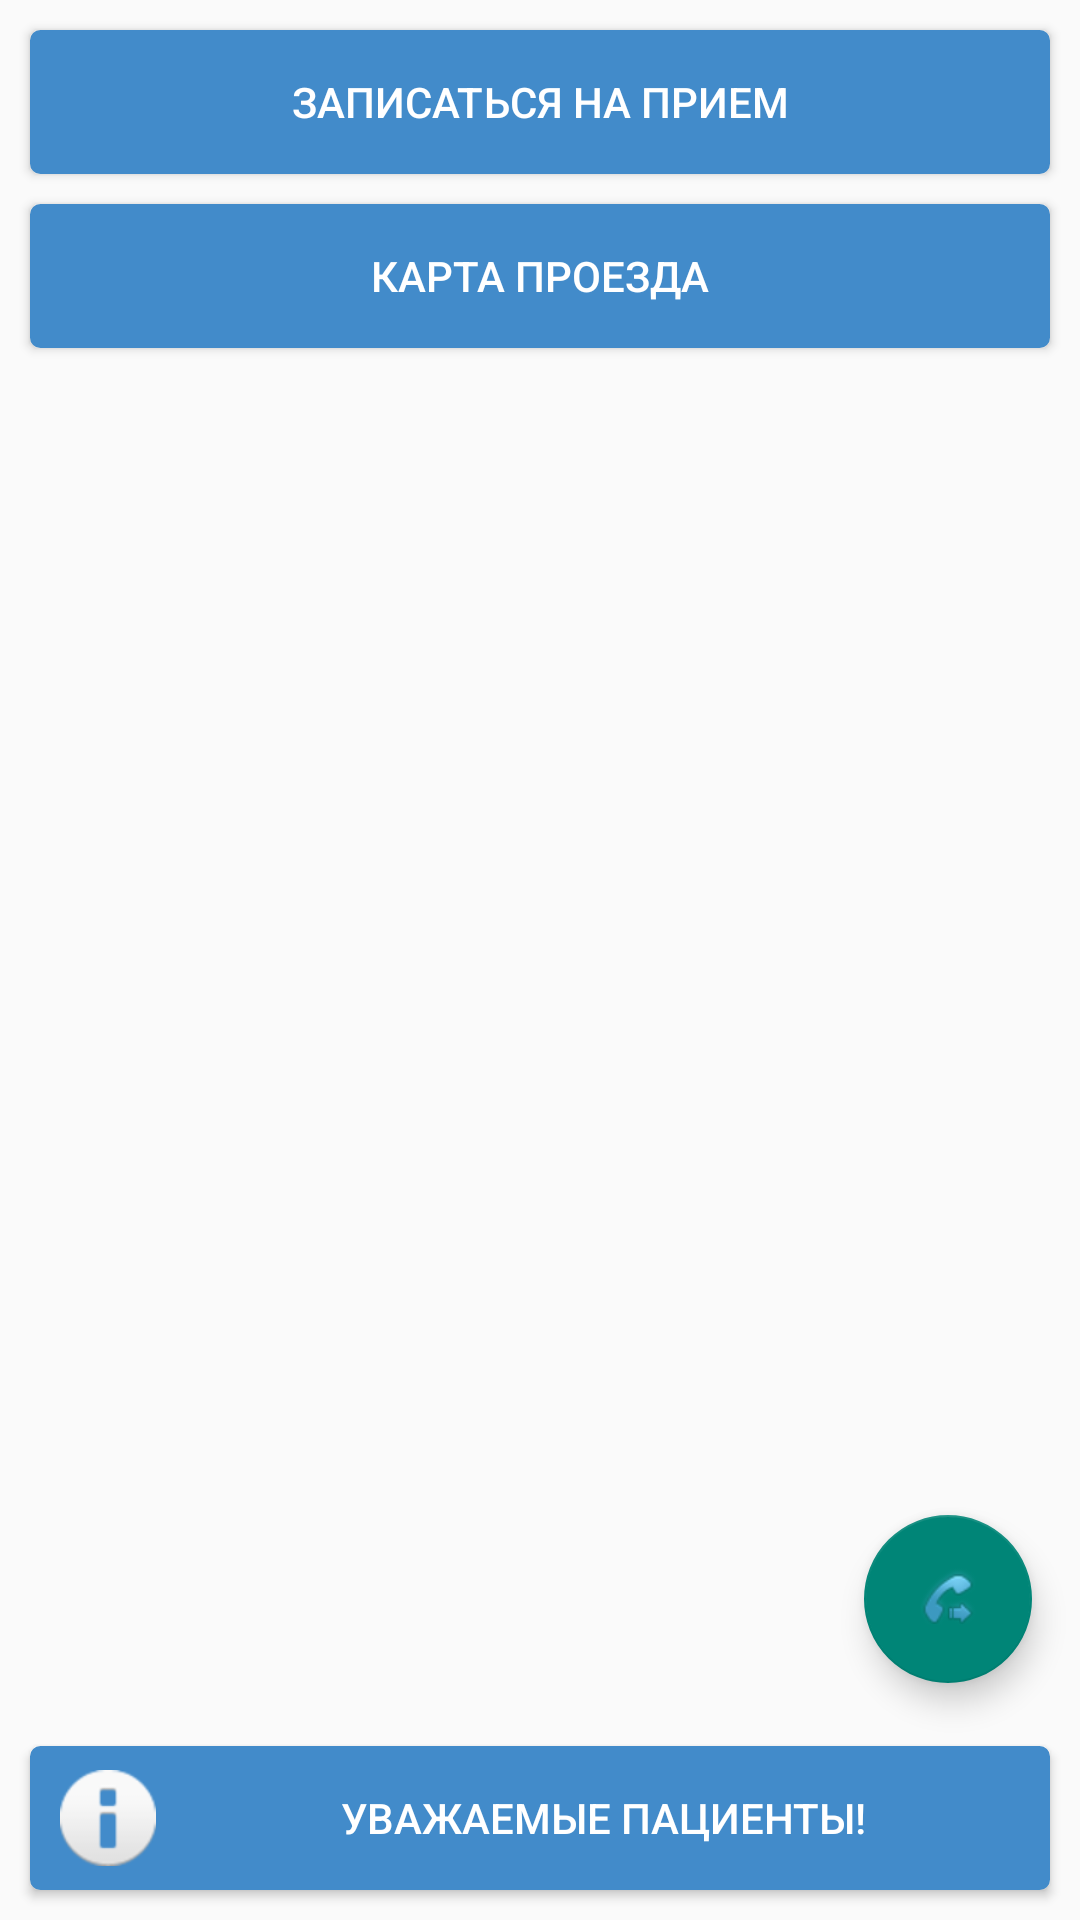

Named icons in this screenshot (1080×1920) and their bounding boxes, box=[x1, y1, x2, y2]:
phone call forward: box=[864, 1515, 1032, 1683]
